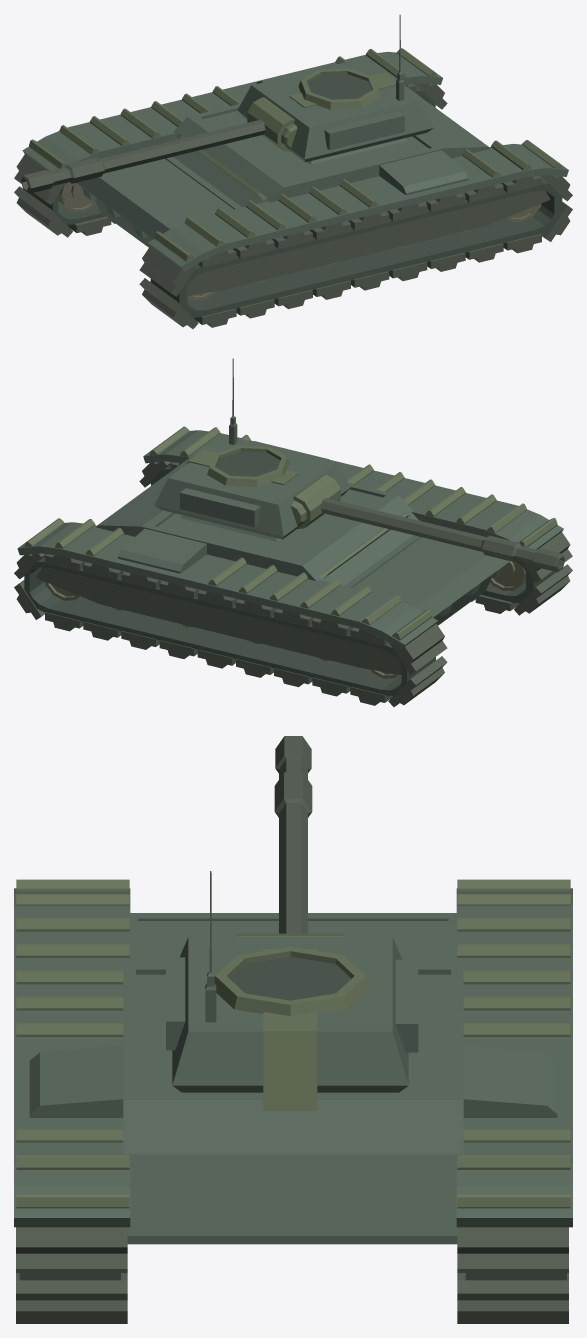
Rendered from Tank.obj.
3 views of the same model, one above another, from view 1: azimuth 30°, elevation 25°; view 2: azimuth 150°, elevation 25°; view 3: azimuth 270°, elevation 25° (orthographic). The views are drawn at different scales.
Parts seen in each view (by area): view 1: Tank_body_p1, Tank_body_p0, TrackMesh.L, Tank_Turret_p0, Tank_body_p3, Tank_body_p2, Tank_Gun, Tank_Turret_p1, TrackMesh.R, Tank_body_p4, Tank_Turret_p2; view 2: Tank_body_p1, Tank_body_p0, TrackMesh.R, Tank_Turret_p0, Tank_body_p3, Tank_body_p2, Tank_Gun, Tank_Turret_p1, TrackMesh.L, Tank_Turret_p2, Tank_body_p4; view 3: Tank_body_p1, Tank_body_p2, Tank_Turret_p0, Tank_Turret_p1, TrackMesh.R, TrackMesh.L, Tank_Gun, Tank_Turret_p2, Tank_body_p0.
Boxes of the visible parts, x1,y1,x2,y2 form: Tank_body_p1: [22, 51, 568, 271]; Tank_body_p0: [30, 86, 562, 317]; TrackMesh.L: [139, 175, 572, 329]; Tank_Turret_p0: [237, 14, 433, 164]; Tank_body_p3: [187, 183, 550, 296]; Tank_body_p2: [29, 48, 561, 262]; Tank_Gun: [21, 119, 265, 193]; Tank_Turret_p1: [247, 68, 395, 151]; TrackMesh.R: [14, 83, 447, 237]; Tank_body_p4: [58, 96, 541, 300]; Tank_Turret_p2: [307, 74, 371, 99]; Tank_body_p1: [17, 430, 563, 649]; Tank_body_p0: [24, 464, 556, 695]; TrackMesh.R: [14, 553, 447, 707]; Tank_Turret_p0: [154, 358, 350, 541]; Tank_body_p3: [36, 562, 401, 674]; Tank_body_p2: [24, 426, 557, 640]; Tank_Gun: [320, 498, 565, 572]; Tank_Turret_p1: [187, 445, 340, 528]; TrackMesh.L: [139, 461, 572, 615]; Tank_Turret_p2: [216, 451, 280, 476]; Tank_body_p4: [45, 561, 525, 678]; Tank_body_p1: [14, 888, 572, 1244]; Tank_body_p2: [16, 879, 570, 1208]; Tank_Turret_p0: [166, 871, 418, 1092]; Tank_Turret_p1: [214, 933, 369, 1110]; TrackMesh.R: [457, 1227, 568, 1323]; TrackMesh.L: [16, 1227, 127, 1323]; Tank_Gun: [274, 736, 312, 933]; Tank_Turret_p2: [229, 957, 351, 1000]; Tank_body_p0: [19, 1273, 566, 1280].
Size of the model in its own units: 17.2 by 7.48 by 10.09.
